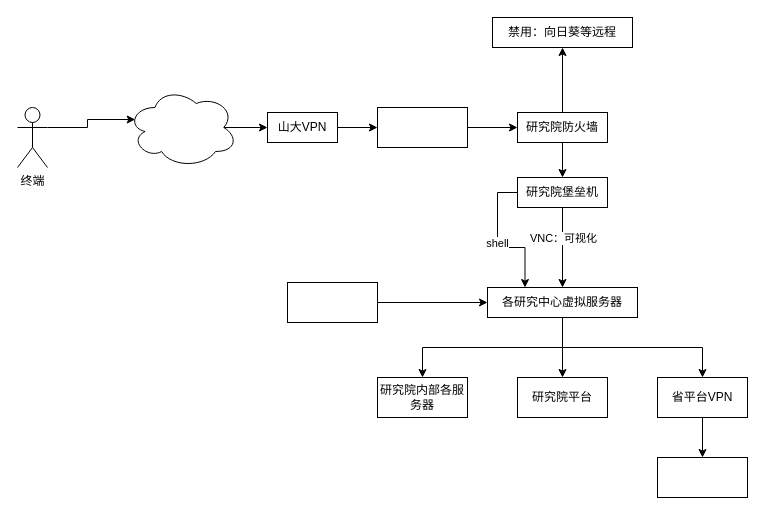
This 765x515 diagram has some shape labels left out. Here are the shapes that lost their labels. From the top down, the centre of each, then its label:
the point at 182,127: 互联网
the point at 422,127: 公网服务器 （跳板机）
the point at 332,302: NAS盘共享文件
the point at 702,477: 省平台
